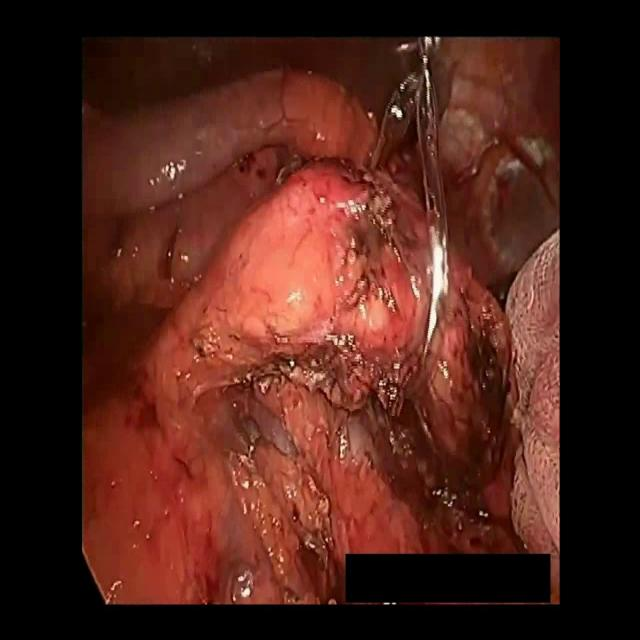surgical-area: (82, 37, 559, 604)
